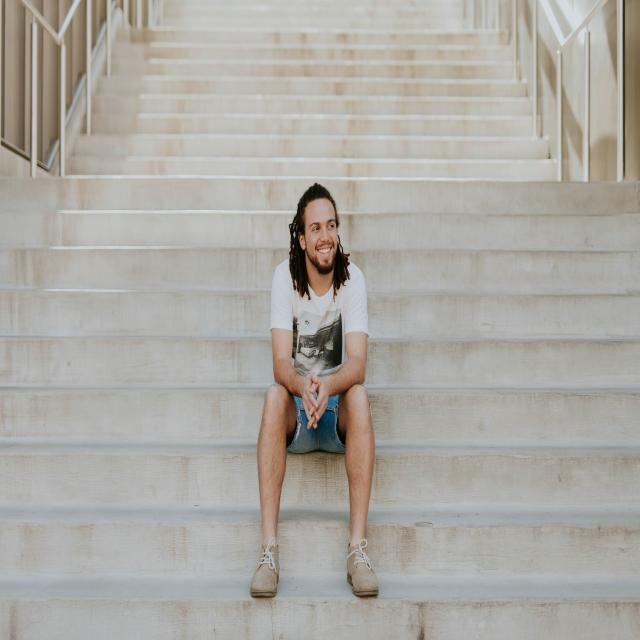adult: (252, 182, 378, 598)
